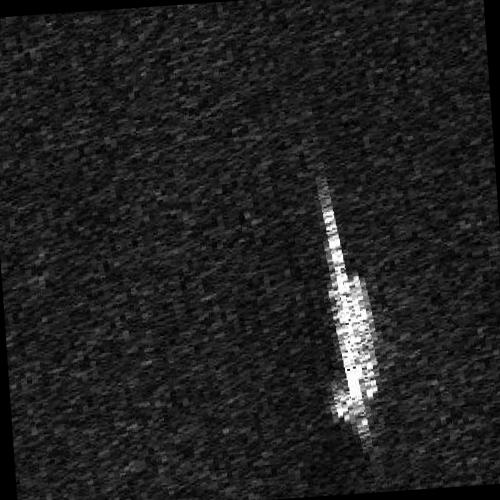ship: (320, 192, 378, 443)
